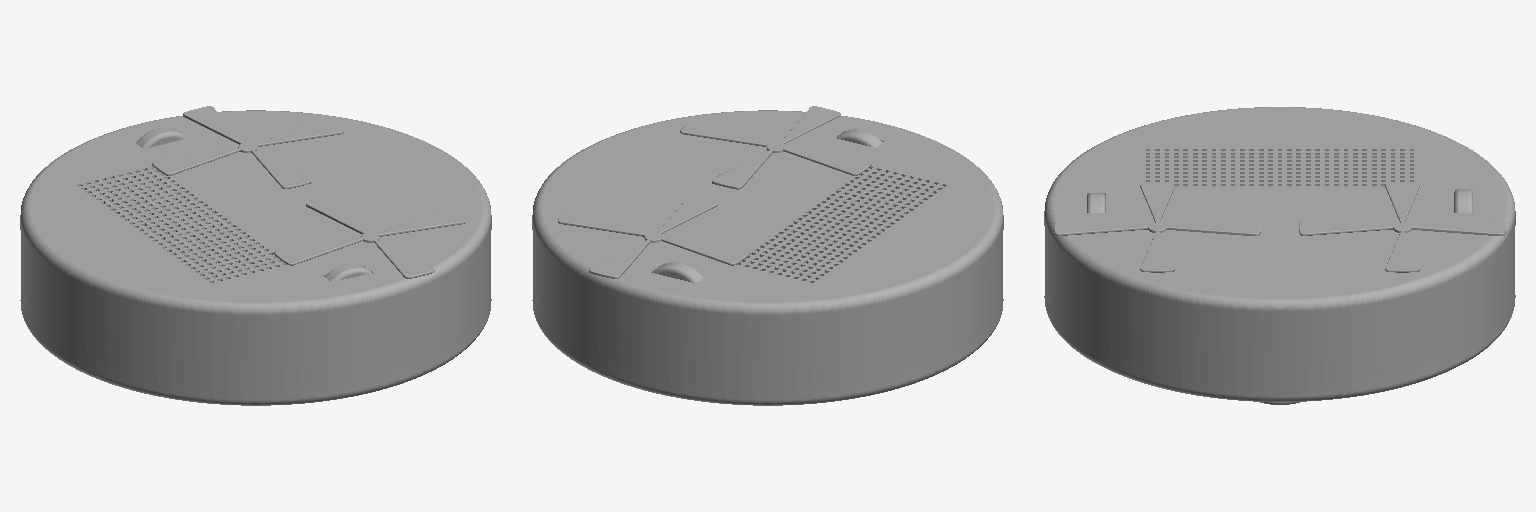
robot.urdf — clean_robot:
<?xml version="1.0"?>
<robot name="clean_robot">
  <link name="base_link">
    <visual>
      <origin xyz="0 0 0" rpy="0 0 0"/>
      <geometry>
        <mesh filename="package://clean_robot/urdf/meshes/clean_robot.stl" scale="1.0 1.0 1.0"/>
      </geometry>
      
      <material name="gray">
        <color rgba="0.7 0.7 0.7 1.0"/>
      </material>
      </visual>
  </link>
</robot>

--- Facts derived from the render (not from the file) ---
The picture shows the robot from 3 angles, left to right: view 1: azimuth 30°, elevation 25°; view 2: azimuth 150°, elevation 25°; view 3: azimuth 270°, elevation 25°; orthographic projection.
Robot: clean_robot — 1 links, 0 joints (none); root link base_link; default pose: every joint at zero.
Links seen in each view (by area): view 1: base_link; view 2: base_link; view 3: base_link.
Boxes of the visible links, x1,y1,x2,y2 form: base_link: (20, 106, 491, 405); base_link: (532, 106, 1003, 405); base_link: (1044, 107, 1515, 404).
Size in the robot's own frame: 500 by 500 by 156 metres.
Meshes: 1 distinct files referenced, 1 mesh visuals loaded (1 binary STL).
